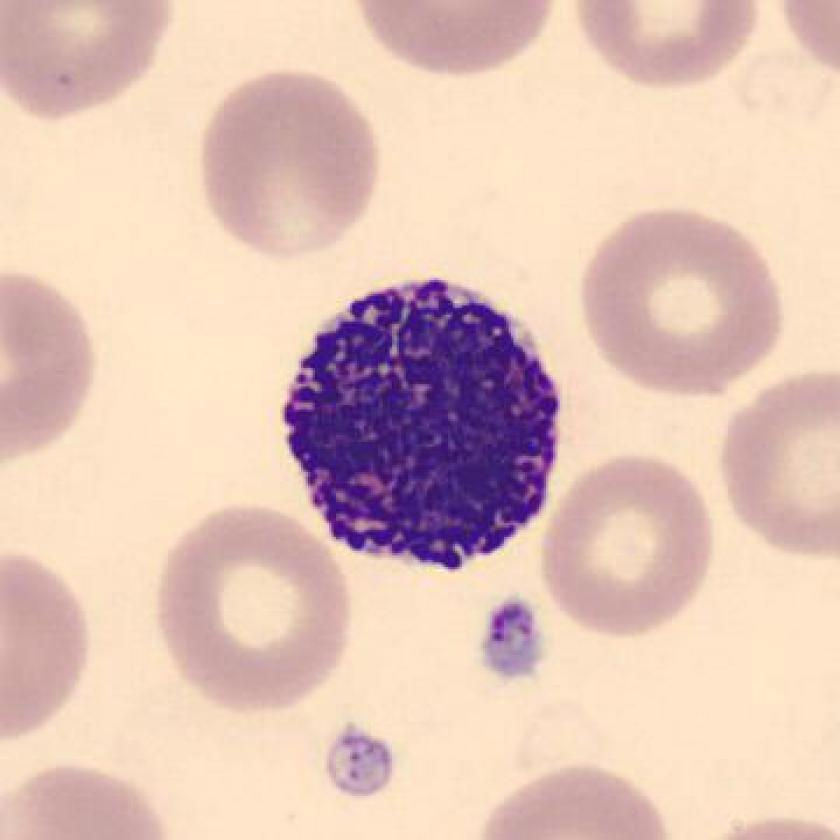basophil: (276, 274, 582, 589)
